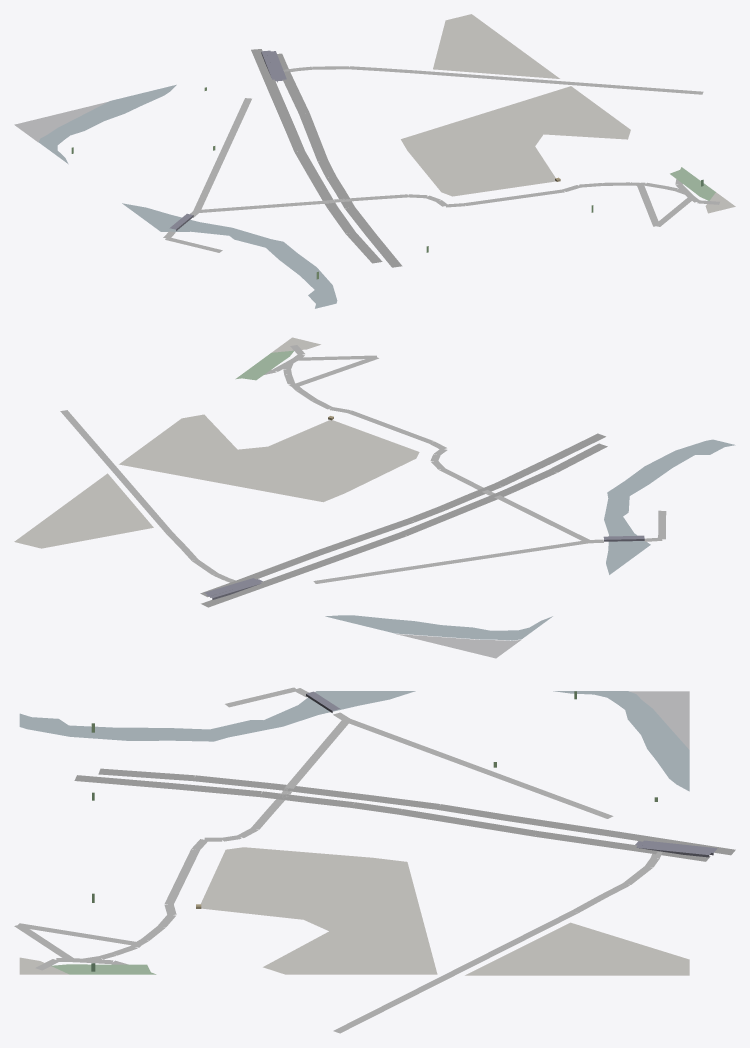
The picture shows the model from 3 angles, top to bottom: view 1: azimuth 30°, elevation 25°; view 2: azimuth 150°, elevation 25°; view 3: azimuth 270°, elevation 25°; orthographic projection. The views are drawn at different scales.
Bounding box in the file's own units: 609 × 11.13 × 539.
